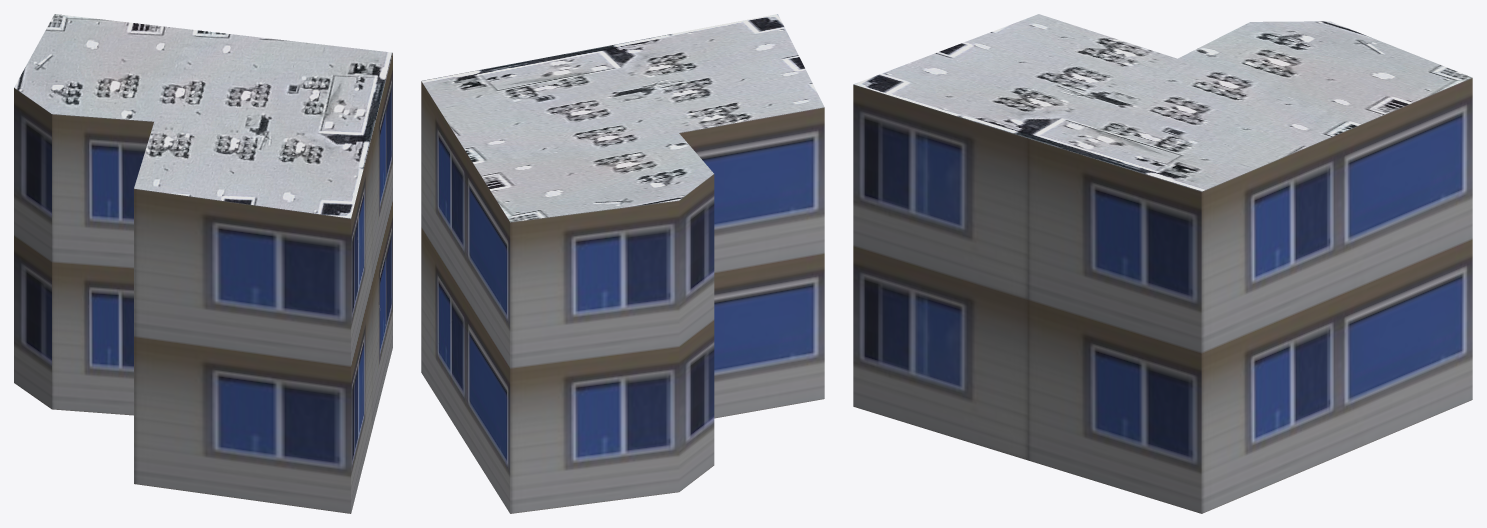
File: ResTex__4316.fbx
The picture shows the model from 3 angles, left to right: view 1: azimuth 30°, elevation 25°; view 2: azimuth 150°, elevation 25°; view 3: azimuth 270°, elevation 25°; orthographic projection. The views are drawn at different scales.
Visible parts, largest first — view 1: CityEngineMaterial_23_m, CityEngineMaterial_4_m; view 2: CityEngineMaterial_23_m, CityEngineMaterial_4_m; view 3: CityEngineMaterial_23_m, CityEngineMaterial_4_m.
Boxes of the visible parts, x1,y1,x2,y2 form: CityEngineMaterial_23_m: [14, 53, 392, 513]; CityEngineMaterial_4_m: [14, 14, 392, 218]; CityEngineMaterial_23_m: [421, 81, 824, 513]; CityEngineMaterial_4_m: [421, 14, 824, 222]; CityEngineMaterial_23_m: [853, 78, 1472, 513]; CityEngineMaterial_4_m: [854, 14, 1472, 191].
Bounding box in the file's own units: 7.09 × 6 × 10.45.
Materials: 2 (2 with a texture image).
